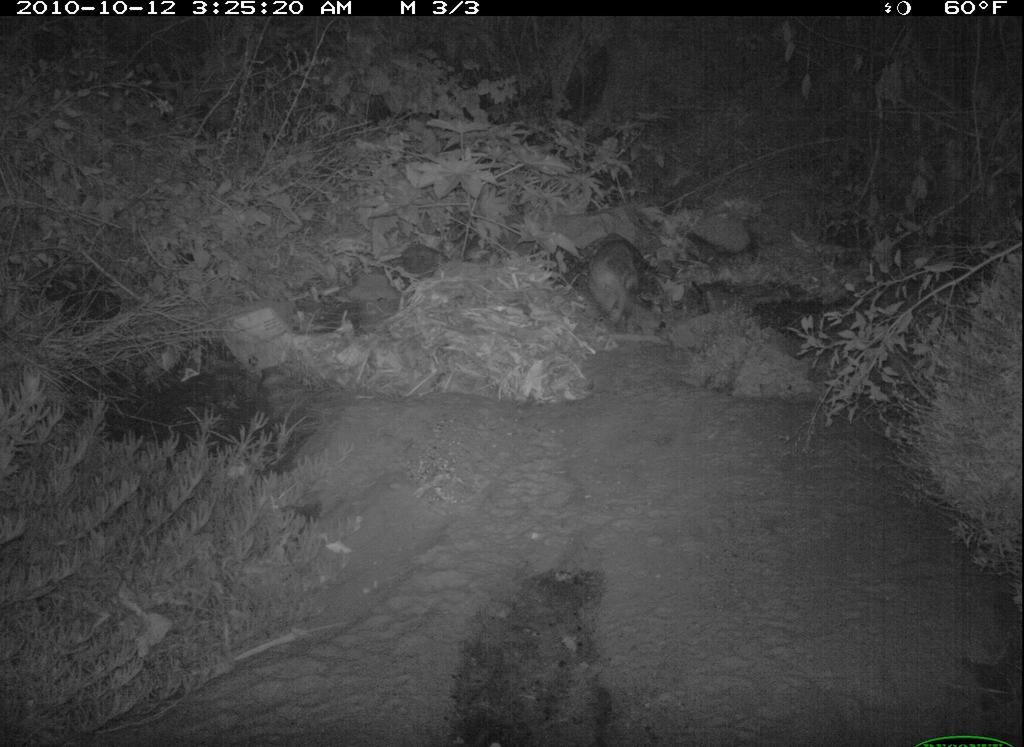raccoon: (580, 233, 655, 329)
